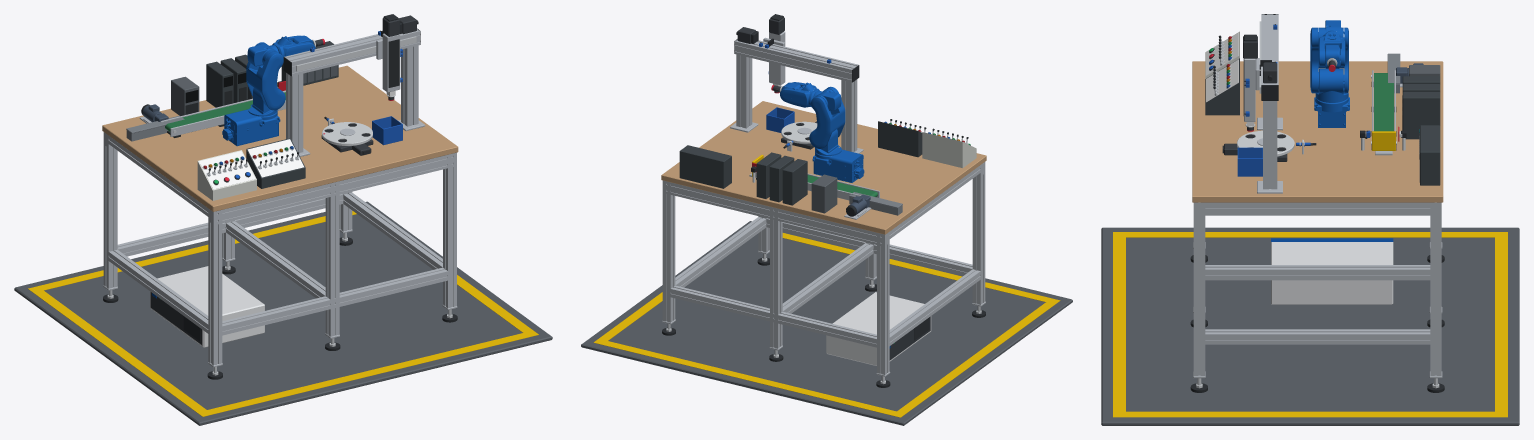
File: mechatro.glb
The picture shows the model from 3 angles, left to right: view 1: azimuth 30°, elevation 25°; view 2: azimuth 150°, elevation 25°; view 3: azimuth 270°, elevation 25°; orthographic projection. The views are drawn at different scales.
Parts seen in each view (by area): view 1: static_base, static_alu, static_wood, static_warn, static_ctrl, static_plc, static_white, static_yaskawa, slide_B, link_L, static_nickel, static_black (+8 smaller); view 2: static_base, static_alu, static_wood, static_plc, static_warn, static_ctrl, static_cabinet, static_yaskawa, link_L, static_ctr, slide_B, static_servo (+5 smaller); view 3: static_base, static_wood, static_alu, static_warn, static_ctrl, static_plc, slide_B, static_white, belt_cv, static_black, link_L, link_S (+9 smaller).
Part boxes in pixels (x1,y1,x2,y2): static_base: (14,201,552,425); static_alu: (103,29,457,367); static_wood: (102,65,458,211); static_warn: (28,211,538,416); static_ctrl: (150,266,264,347); static_plc: (206,41,338,188); static_white: (199,139,303,189); static_yaskawa: (222,107,280,146); slide_B: (376,14,402,92); link_L: (246,42,285,110); static_nickel: (107,36,452,375); static_black: (103,20,457,379); static_base: (581,221,1072,425); static_alu: (662,39,985,376); static_wood: (661,101,986,234); static_plc: (679,121,922,205); static_warn: (593,155,1060,417); static_ctrl: (826,292,931,365); static_cabinet: (922,132,976,168); static_yaskawa: (812,147,864,182); link_L: (809,86,845,148); static_ctr: (811,174,837,213); slide_B: (763,14,785,85); static_servo: (737,27,930,360); static_base: (1101,227,1519,425); static_wood: (1192,61,1443,202); static_alu: (1193,14,1442,378); static_warn: (1113,131,1507,417); static_ctrl: (1271,242,1393,304); static_plc: (1205,58,1440,185); slide_B: (1243,34,1271,121); static_white: (1206,32,1238,102); belt_cv: (1374,73,1393,131); static_black: (1190,14,1444,392); link_L: (1310,27,1348,93); link_S: (1315,68,1348,102).
Size of the model in its own units: 1.6 by 1.29 by 1.45.
